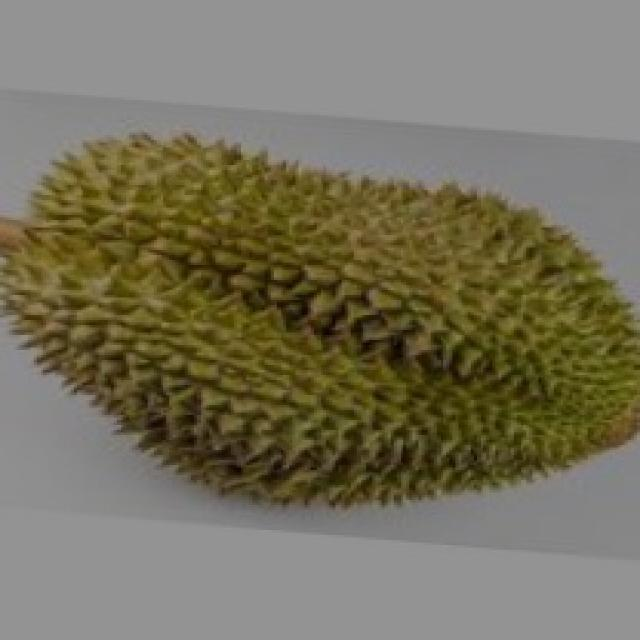fruit: (252, 150, 640, 550), (0, 140, 363, 565)
